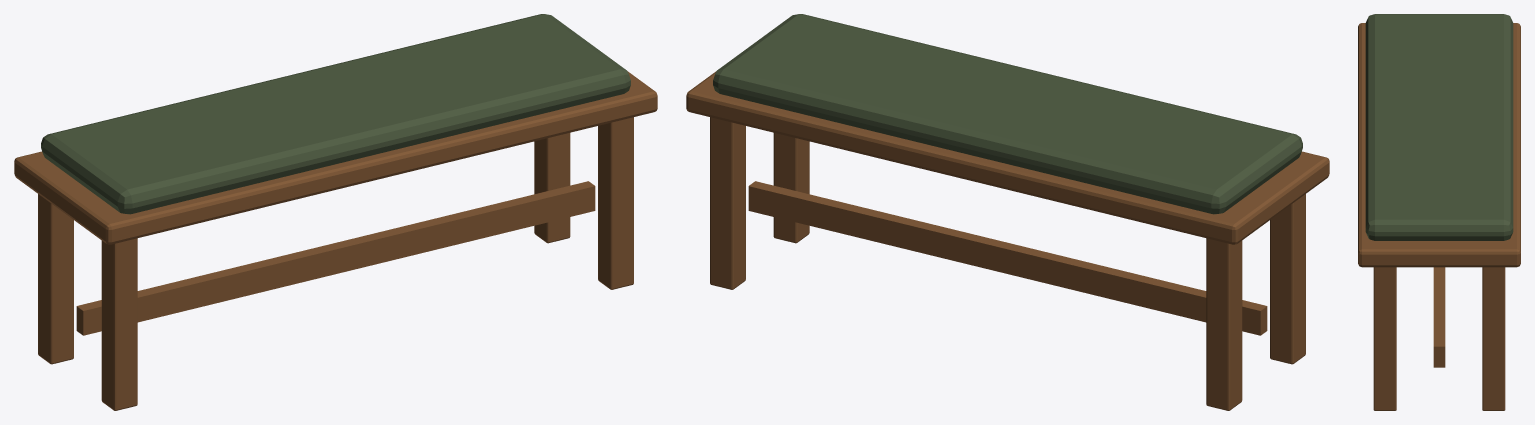
Rendered from bench.glb.
The picture shows the model from 3 angles, left to right: view 1: azimuth 30°, elevation 25°; view 2: azimuth 150°, elevation 25°; view 3: azimuth 270°, elevation 25°; orthographic projection. The views are drawn at different scales.
Visible parts, largest first — view 1: bench; view 2: bench; view 3: bench.
Part boxes in pixels (bbox=[...]): bench: bbox=[14, 14, 657, 410]; bench: bbox=[686, 14, 1329, 410]; bench: bbox=[1358, 14, 1520, 410].
Size of the model in its own units: 1.4 by 0.53 by 0.42.
